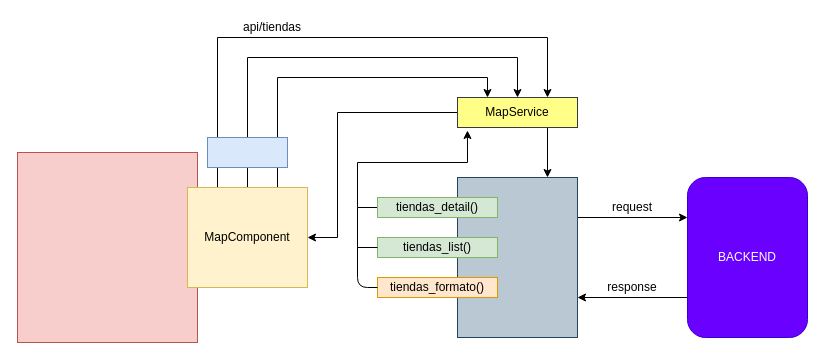
This 825x360 diagram has some shape labels left out. Here are the shapes that lost their labels. From the top down, the box of each, then its label:
(206, 136, 288, 168): ng router
(16, 152, 198, 342): WEBMAP APP
(456, 176, 578, 338): HTTP CLIENT
